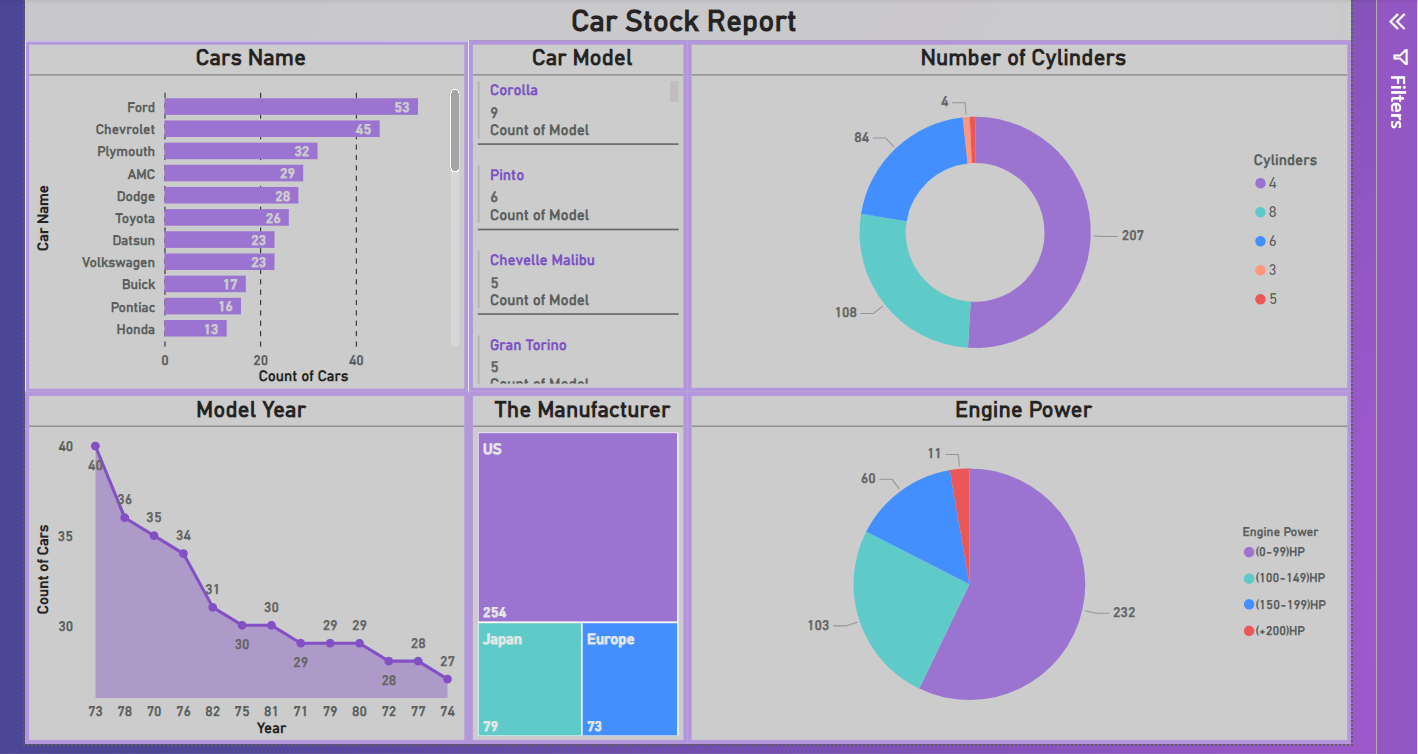

The page's visual inventory and layout, read from the dashboard file:
{"tool":"powerbi","page":{"name":"Page 1","canvas":[1280,720],"ordinal":0},"visuals":[{"type":"textbox","box":[0,0,1280.3,41.2],"z":0},{"type":"multiRowCard","title":"Car Model","fields":{"Values":["cars.Model","CountNonNull(cars.Model)"]},"box":[428.3,41,211.1,339],"z":1000},{"type":"clusteredBarChart","title":"Cars Name","fields":{"Category":["cars.Car"],"Y":["CountNonNull(cars.Car)"]},"box":[0,41,428.3,340],"z":2000},{"type":"donutChart","title":"Number of Cylinders","fields":{"Category":["cars.Cylinders"],"Y":["CountNonNull(cars.Car)"]},"box":[639.4,41,640.6,339],"z":3000},{"type":"treemap","title":"The Manufacturer","fields":{"Group":["cars.Origin"],"Values":["CountNonNull(cars.Car)"]},"box":[428.3,380,211.1,340.2],"z":5000},{"type":"areaChart","title":"Model Year","fields":{"Category":["cars.Model_Year"],"Y":["CountNonNull(cars.Car)"]},"box":[0,380,428.3,340.2],"z":5001},{"type":"pieChart","title":"Engine Power","fields":{"Category":["cars.EngineCategory"],"Y":["CountNonNull(cars.Car)"]},"box":[639.4,380,640.6,340.2],"z":5002}]}

Visuals, with their boxes in screenshot pixels (x1, y1, x2, y2):
textbox: left=22, top=0, right=1343, bottom=39
"Car Model" multiRowCard: left=464, top=39, right=682, bottom=388
"Cars Name" clusteredBarChart: left=22, top=39, right=464, bottom=389
"Number of Cylinders" donutChart: left=682, top=39, right=1343, bottom=388
"The Manufacturer" treemap: left=464, top=388, right=682, bottom=739
"Model Year" areaChart: left=22, top=388, right=464, bottom=739
"Engine Power" pieChart: left=682, top=388, right=1343, bottom=739
